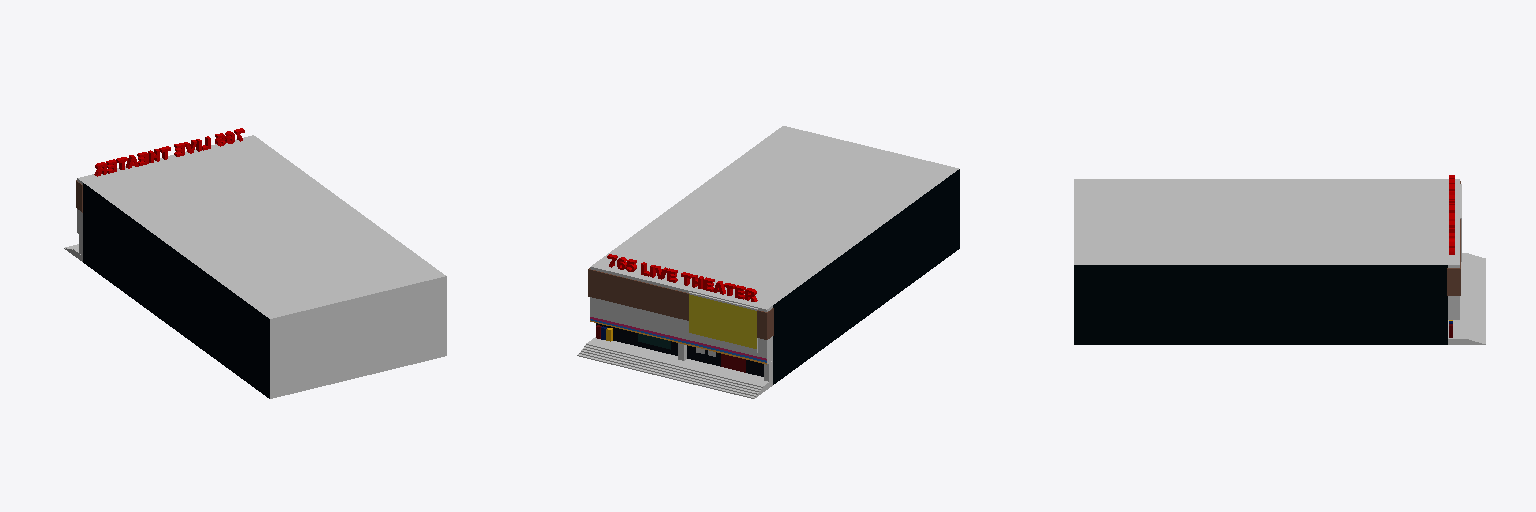
Rendered from theater.obj.
3 renders of one model, left to right at view 1: azimuth 30°, elevation 25°; view 2: azimuth 150°, elevation 25°; view 3: azimuth 270°, elevation 25°, orthographic.
Parts seen in each view (by area): view 1: Cube, テキスト; view 2: Cube, 立方体, テキスト; view 3: Cube, 立方体.
Boxes of the visible parts, x1=… form: Cube: x1=76, y1=135, x2=446, y2=398; テキスト: x1=94, y1=128, x2=244, y2=176; Cube: x1=588, y1=126, x2=959, y2=384; 立方体: x1=577, y1=337, x2=772, y2=398; テキスト: x1=607, y1=254, x2=757, y2=301; Cube: x1=1074, y1=179, x2=1461, y2=344; 立方体: x1=1448, y1=253, x2=1485, y2=344.
Bounding box in the file's own units: 30.5 × 15.03 × 60.51.